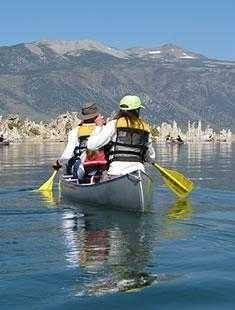kayak: (61, 169, 153, 211)
